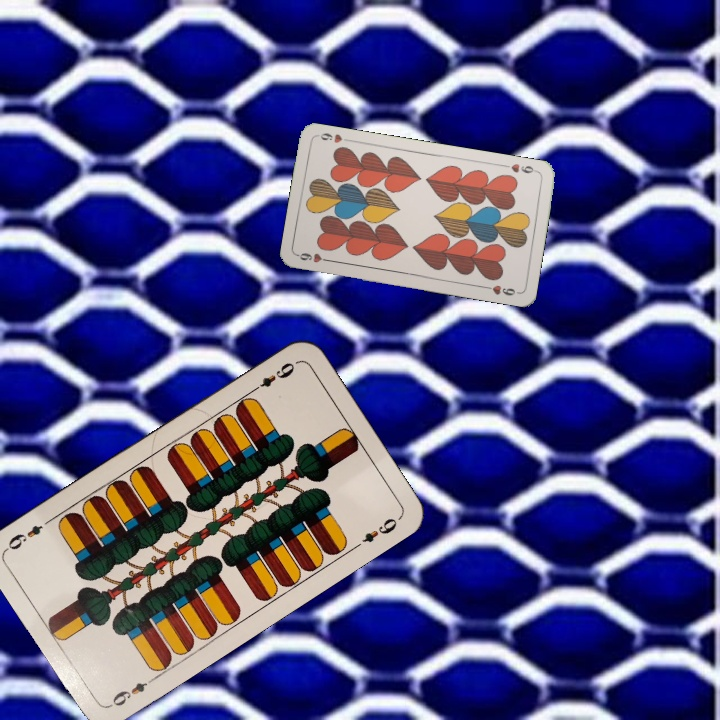E9: (247, 357, 300, 396), (105, 673, 158, 710)
H9: (294, 249, 335, 265), (500, 160, 540, 176)
